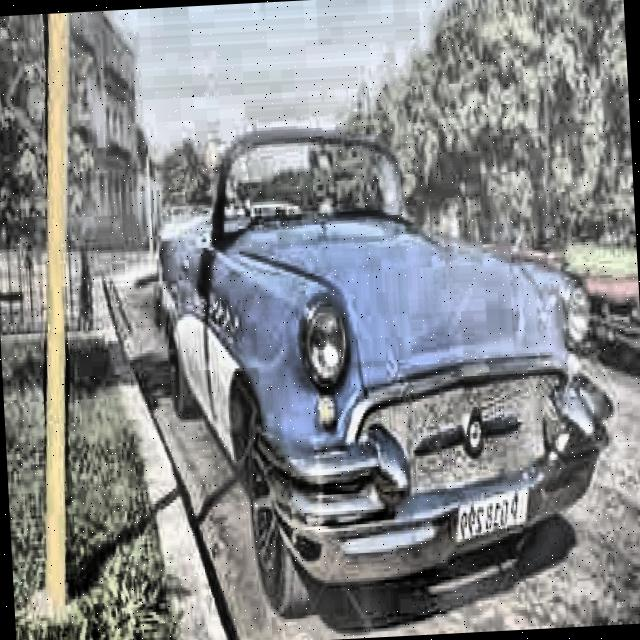license_plate: (455, 489, 530, 548)
